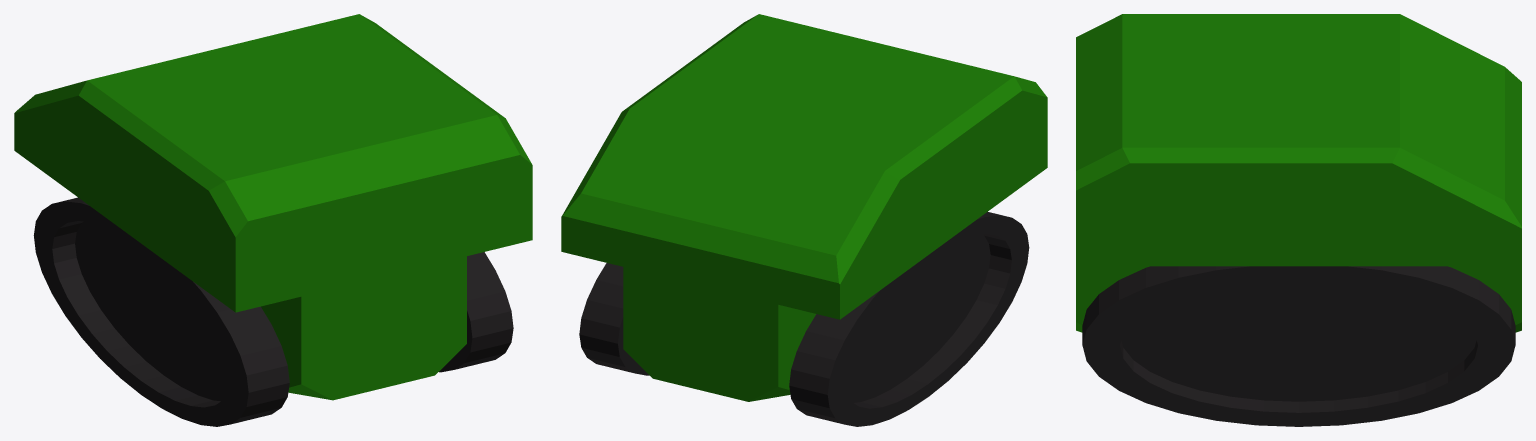
The model's file is tank_1_bottom.glb.
The picture shows the model from 3 angles, left to right: view 1: azimuth 30°, elevation 25°; view 2: azimuth 150°, elevation 25°; view 3: azimuth 270°, elevation 25°; orthographic projection. The views are drawn at different scales.
Visible parts, largest first — view 1: Cylinder.001; view 2: Cylinder.001; view 3: Cylinder.001.
Boxes of the visible parts, x1,y1,x2,y2 form: Cylinder.001: (14, 14, 532, 426); Cylinder.001: (561, 14, 1047, 426); Cylinder.001: (1076, 14, 1521, 426).
Size of the model in its own units: 2.79 by 2.5 by 3.6.
